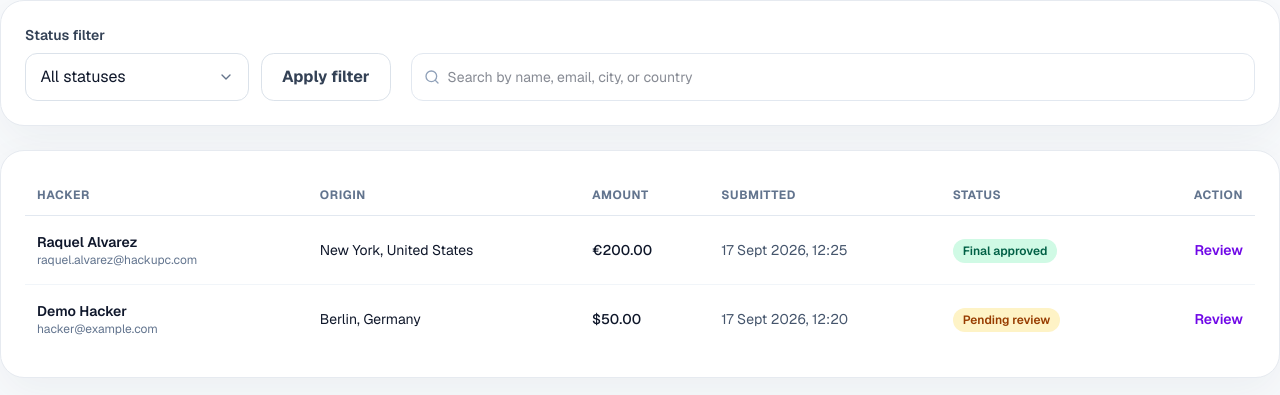
TravelReimbursementsTable › filters as you type by city
The width and height of the screenshot is (1280, 395).
Type "new york" into the search field named "Search travel reimbursements by name, email, city, or country" at (845, 77), box [448, 54, 1242, 100]
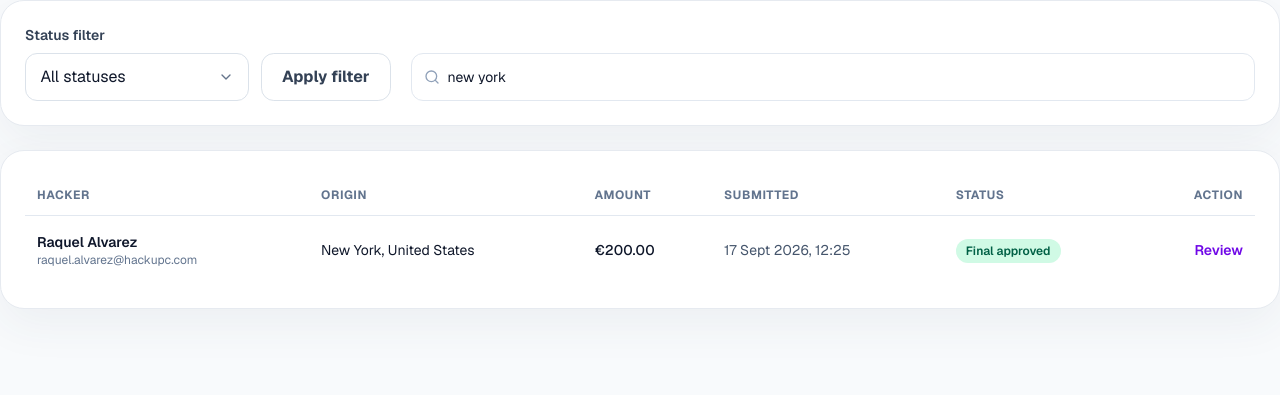
Expected: the text "Raquel Alvarez" is shown, [37, 233, 137, 251]
Result: the text "Demo Hacker" is gone
